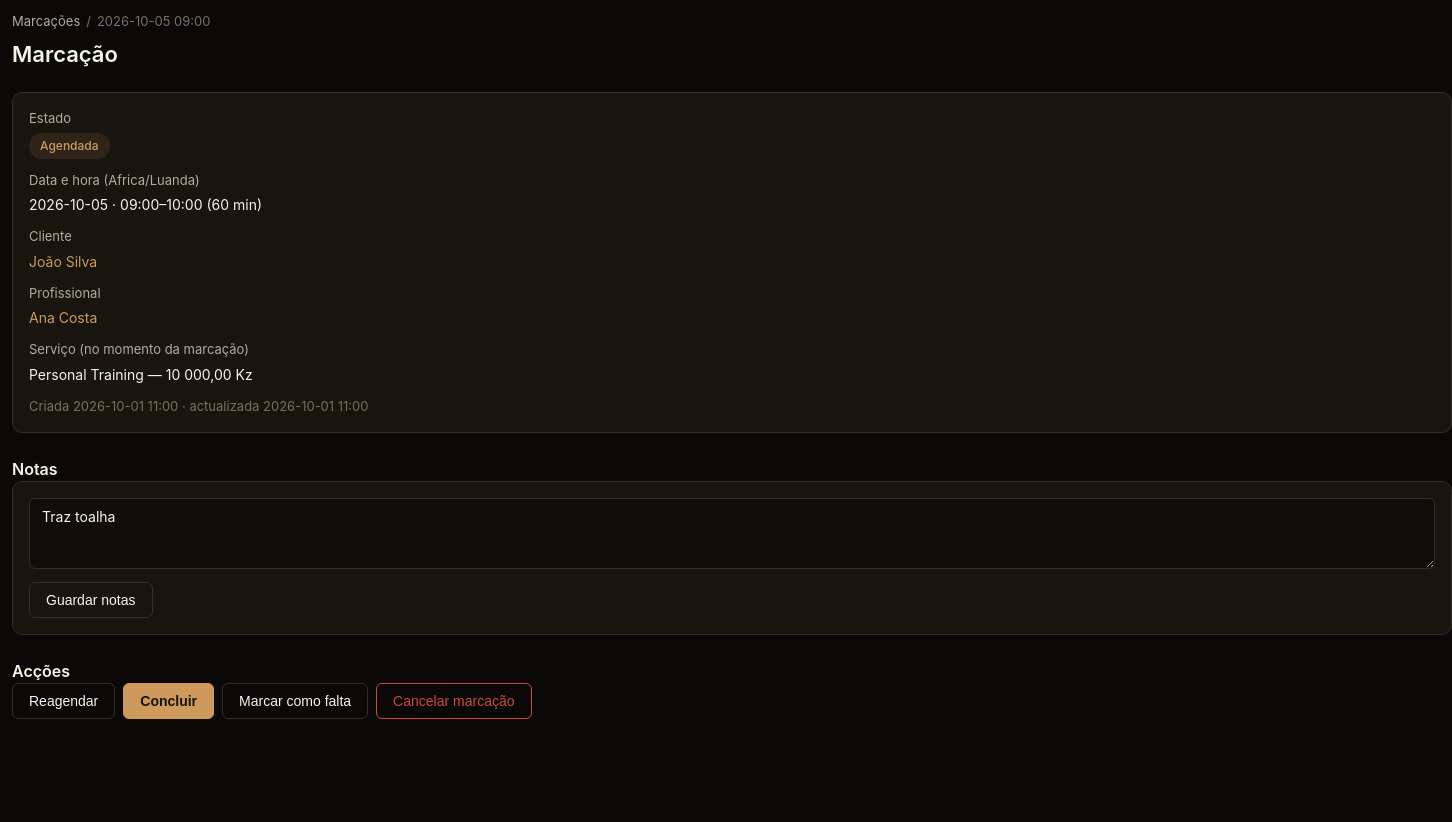
Test case: Appointment detail — NO_SHOW (F28B, ADR-048) › success: sends the request with no body, re-renders from the server response — Falta badge, timestamp, still occupied, no further actions
The width and height of the screenshot is (1452, 822).
Step 1. Click the button "Marcar como falta" → (295, 701), box x1=222 y1=683 x2=368 y2=719
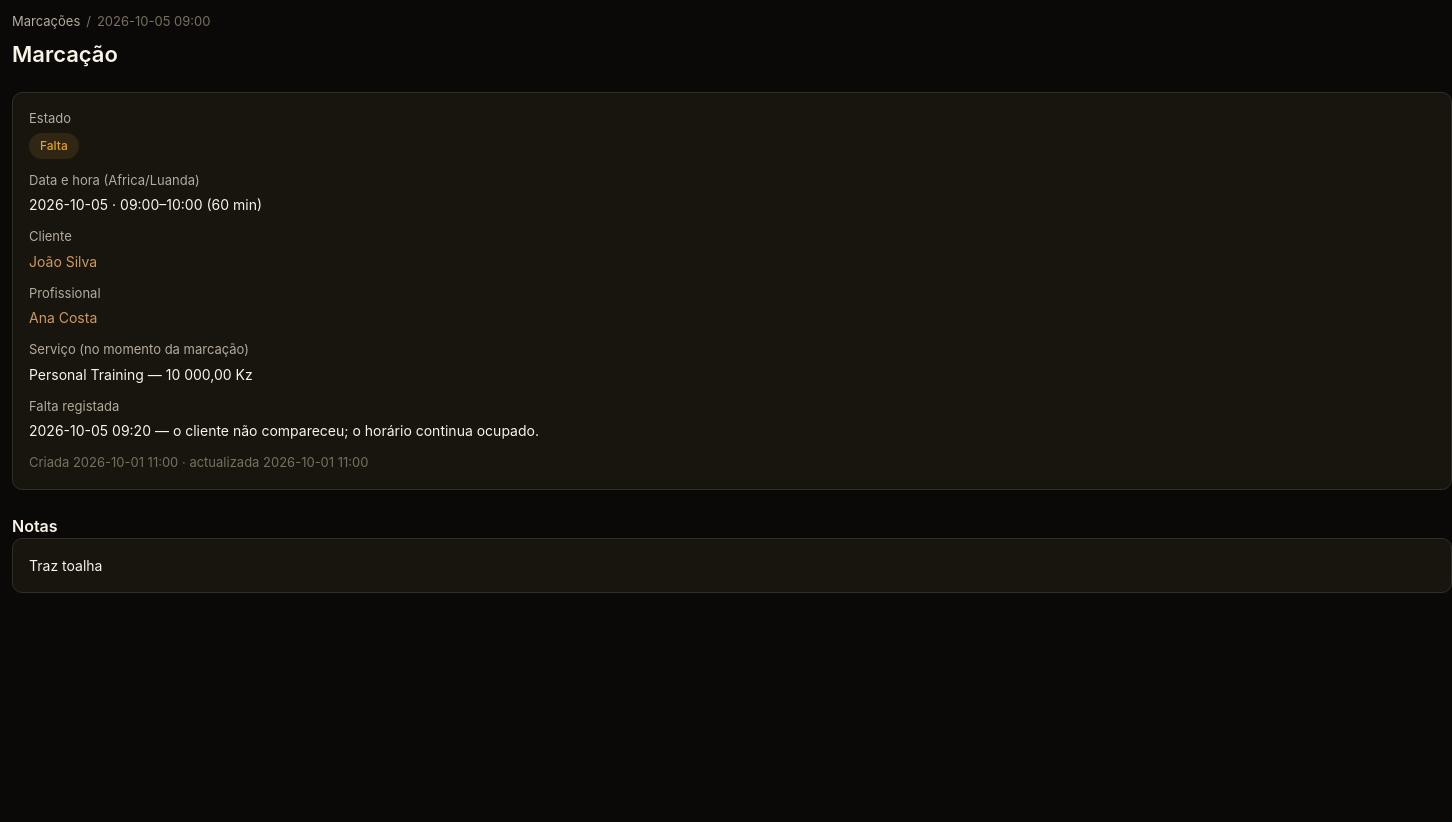
Check: the text "Falta" is shown, box x1=29 y1=133 x2=79 y2=159
Check: the text "2026-10-05 09:20 — o cliente não compareceu; o horário continua ocupado" is shown, box x1=29 y1=422 x2=539 y2=439
Check: the button "Marcar como falta" is gone
